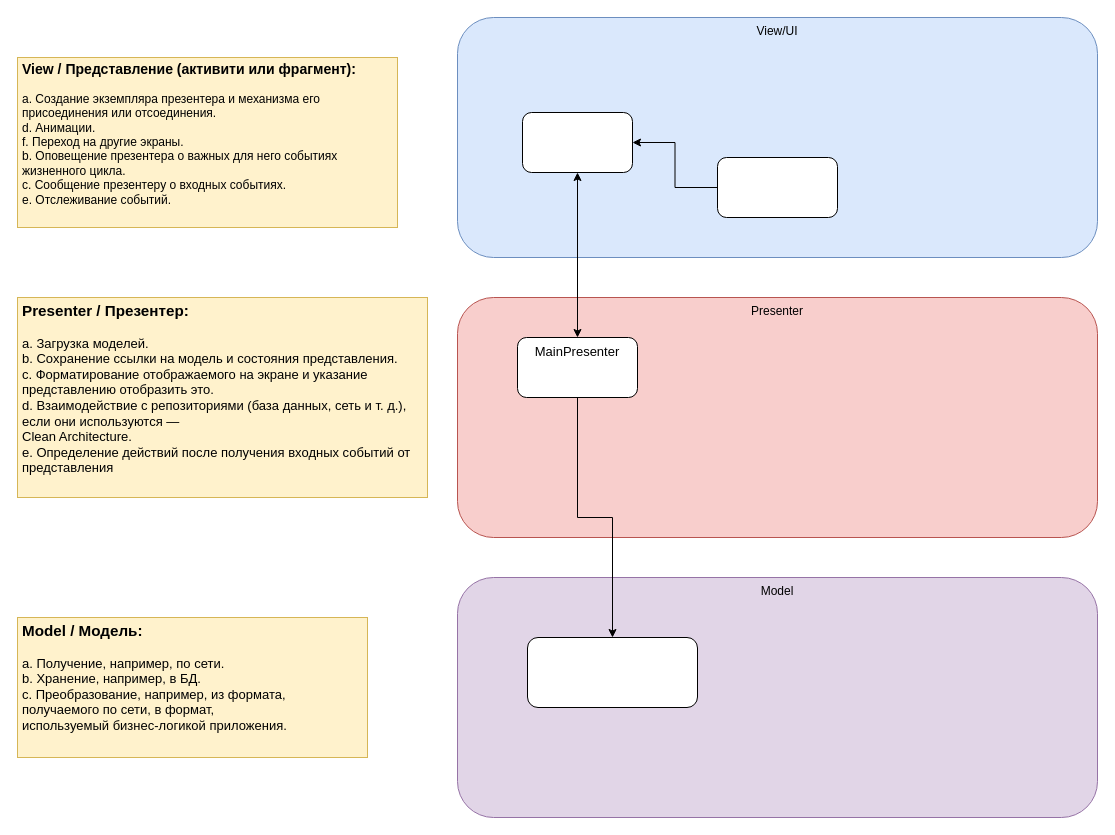
Some shapes in this 1115 by 835 pixel diagram are drawn without their labels. Each missing label, with the box of its shape:
CountersModel: (526, 636, 698, 708)
MainActivity :MainView(1): (522, 112, 632, 172)
MainView(1) INTERFACE: (716, 156, 838, 218)
